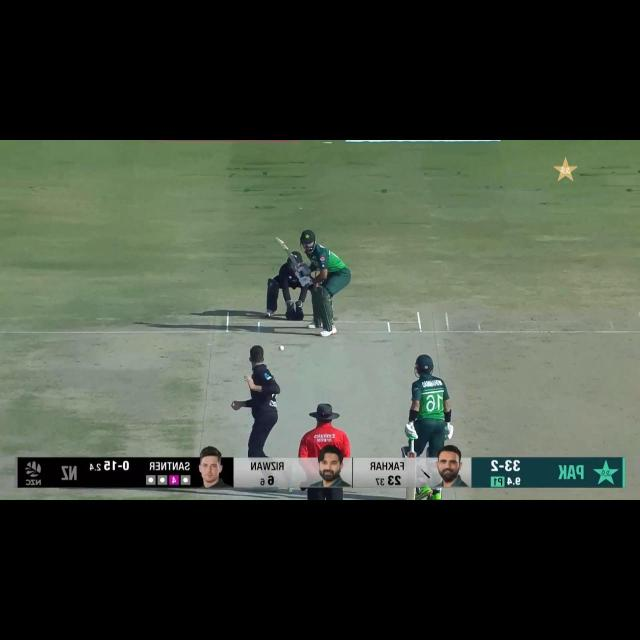bat: (273, 235, 301, 268), (408, 451, 417, 457)
toe: (404, 486, 418, 499), (273, 235, 284, 244)
